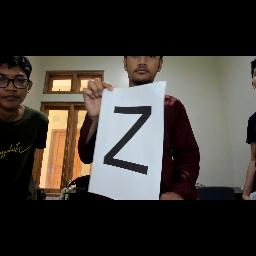z: (102, 104, 156, 178)
